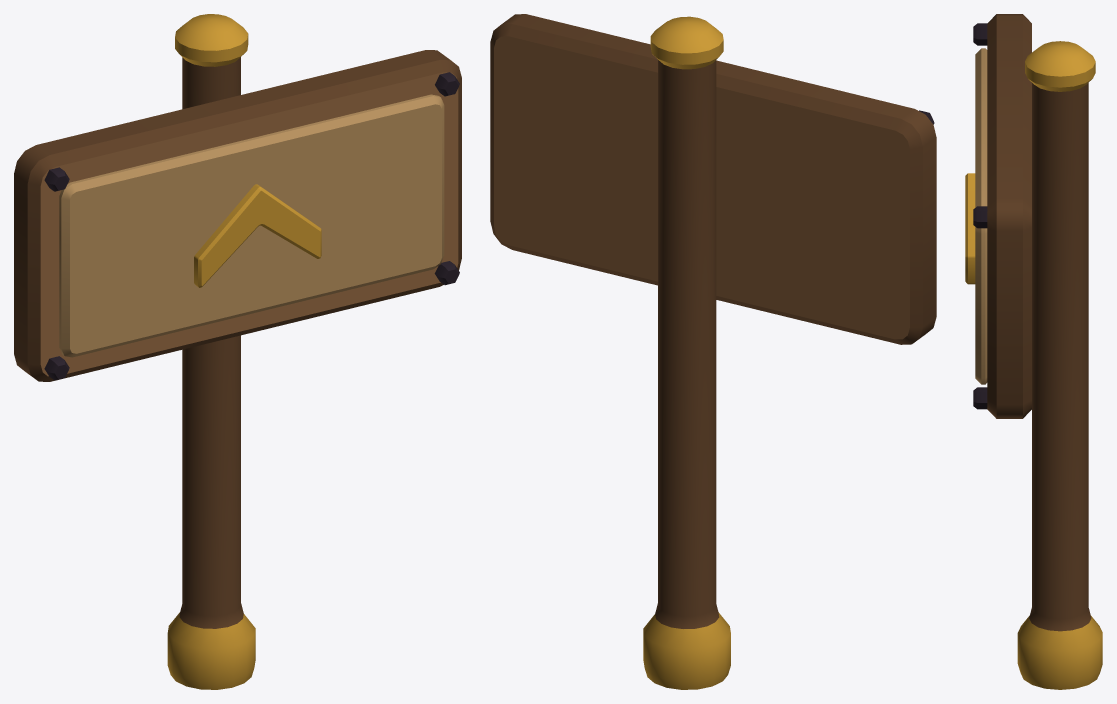
File: Sign_01.glb
The picture shows the model from 3 angles, left to right: view 1: azimuth 30°, elevation 25°; view 2: azimuth 150°, elevation 25°; view 3: azimuth 270°, elevation 25°; orthographic projection. The views are drawn at different scales.
Visible parts, largest first — view 1: Sign_01; view 2: Sign_01; view 3: Sign_01.
Part boxes in pixels (left/top/right/bottom): Sign_01: left=14, top=14, right=461, bottom=689; Sign_01: left=490, top=14, right=936, bottom=689; Sign_01: left=965, top=14, right=1102, bottom=689.
Bounding box in the file's own units: 2.38 × 3.41 × 0.68.
